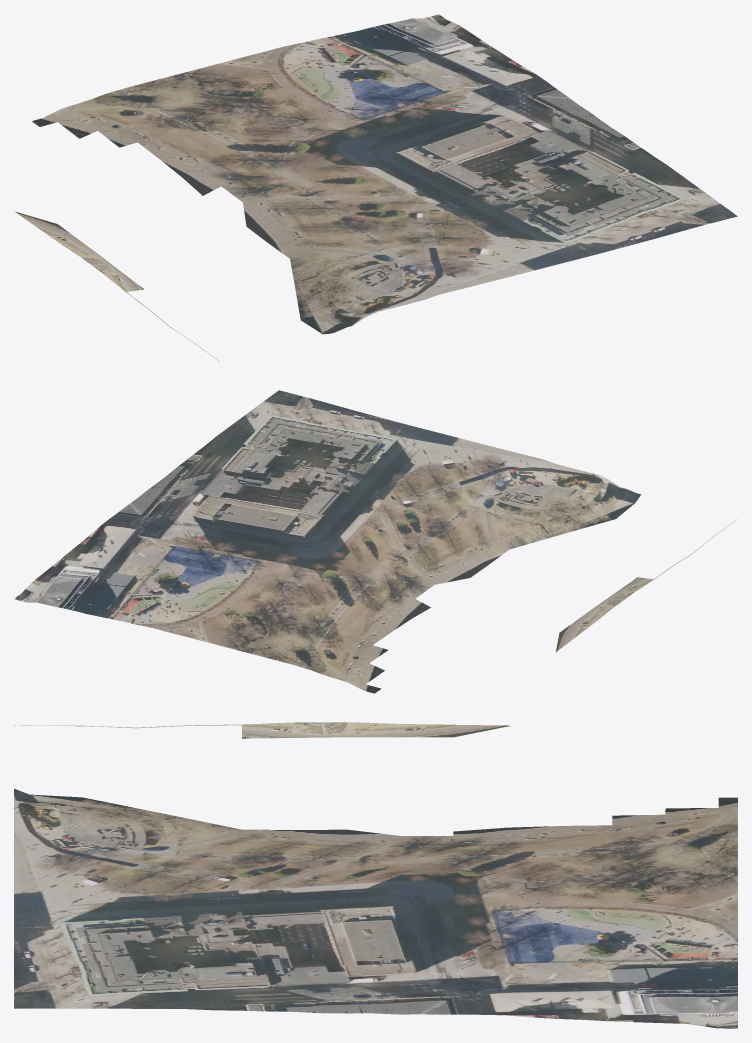
The model's file is CM_Terrain_24487387_6821022.fbx.
The picture shows the model from 3 angles, top to bottom: view 1: azimuth 30°, elevation 25°; view 2: azimuth 150°, elevation 25°; view 3: azimuth 270°, elevation 25°; orthographic projection. The views are drawn at different scales.
Visible parts, largest first — view 1: CM_Terrain_24487387_6821022_LOD0; view 2: CM_Terrain_24487387_6821022_LOD0; view 3: CM_Terrain_24487387_6821022_LOD0.
Boxes of the visible parts, <box> form: CM_Terrain_24487387_6821022_LOD0: <box>15,14,737,361</box>; CM_Terrain_24487387_6821022_LOD0: <box>14,390,737,693</box>; CM_Terrain_24487387_6821022_LOD0: <box>14,722,737,1028</box>.
Size of what is drawn, in the model's own units: 205 by 9.92 by 205.
